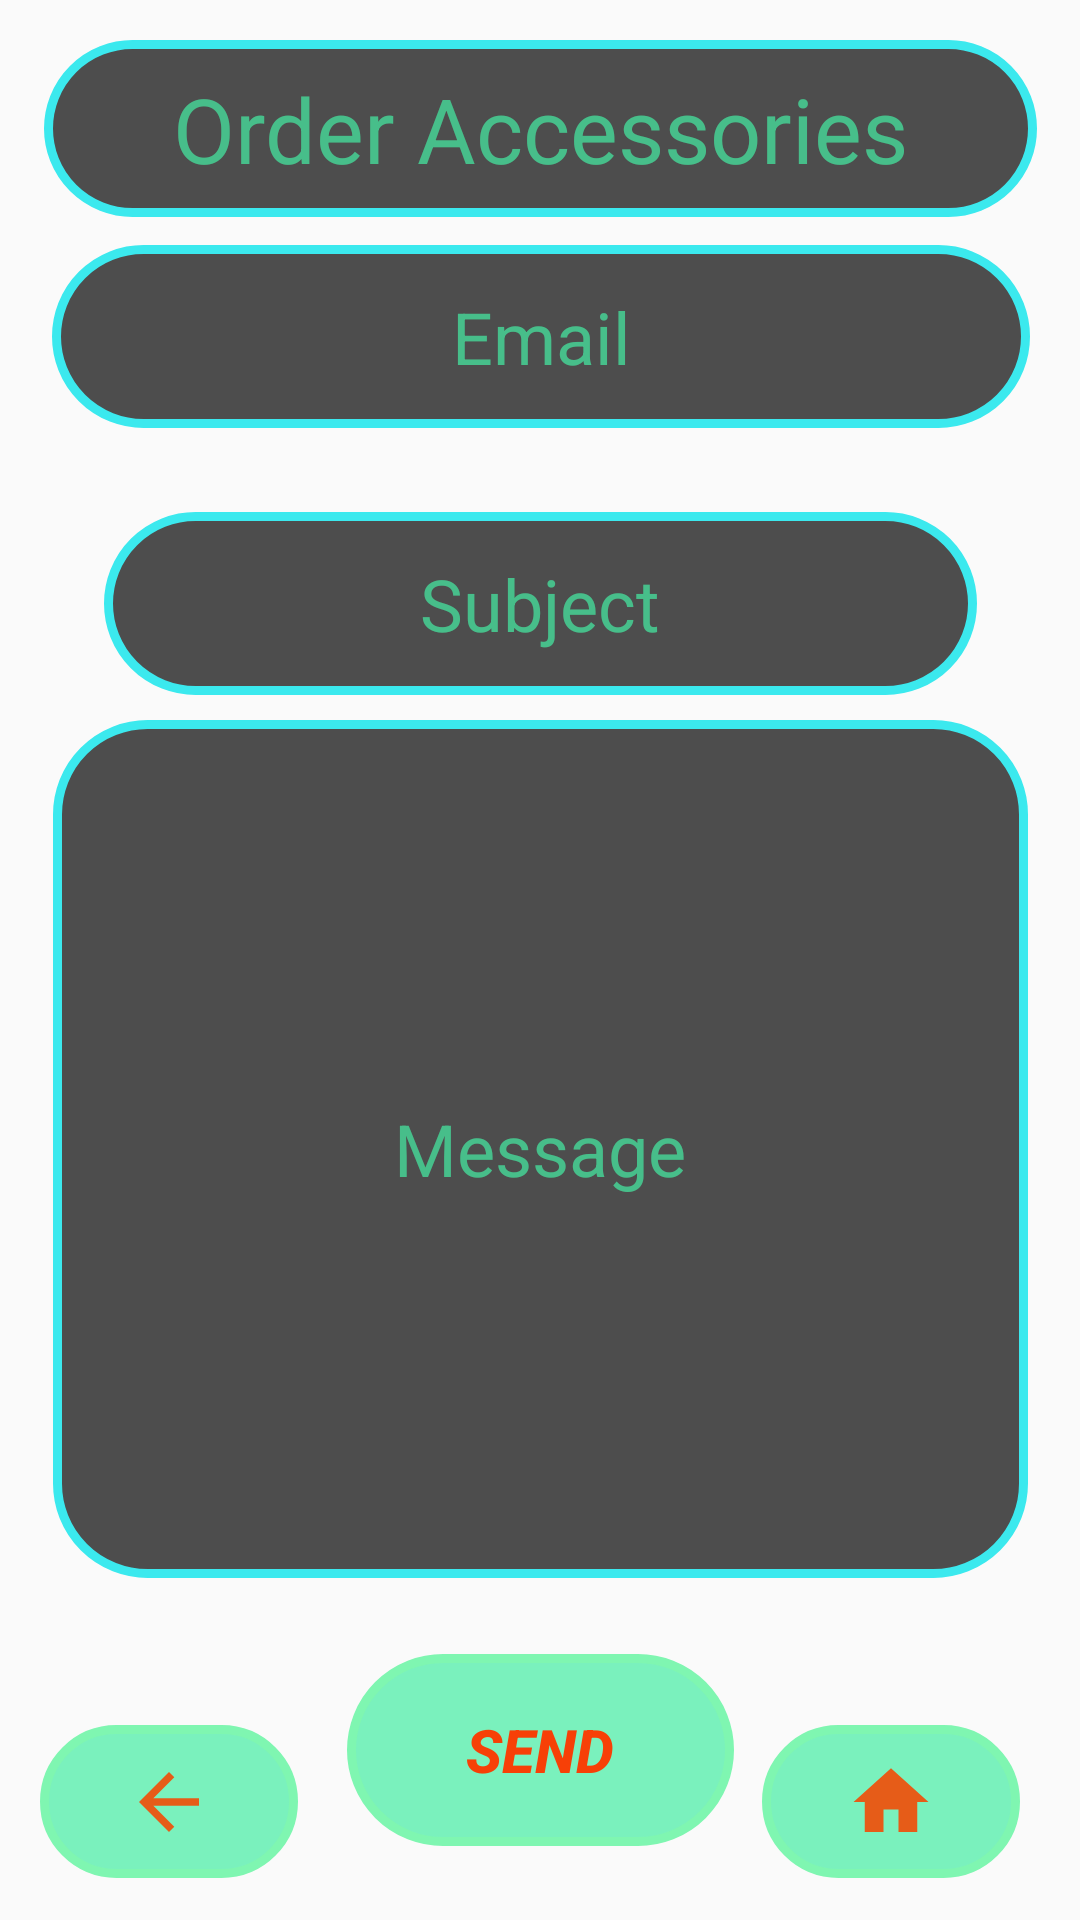

Point at icon controls on the screen. Image size 1080 × 1920, points as point (x, y).
arrow back: point (169, 1801)
home: point (891, 1801)
